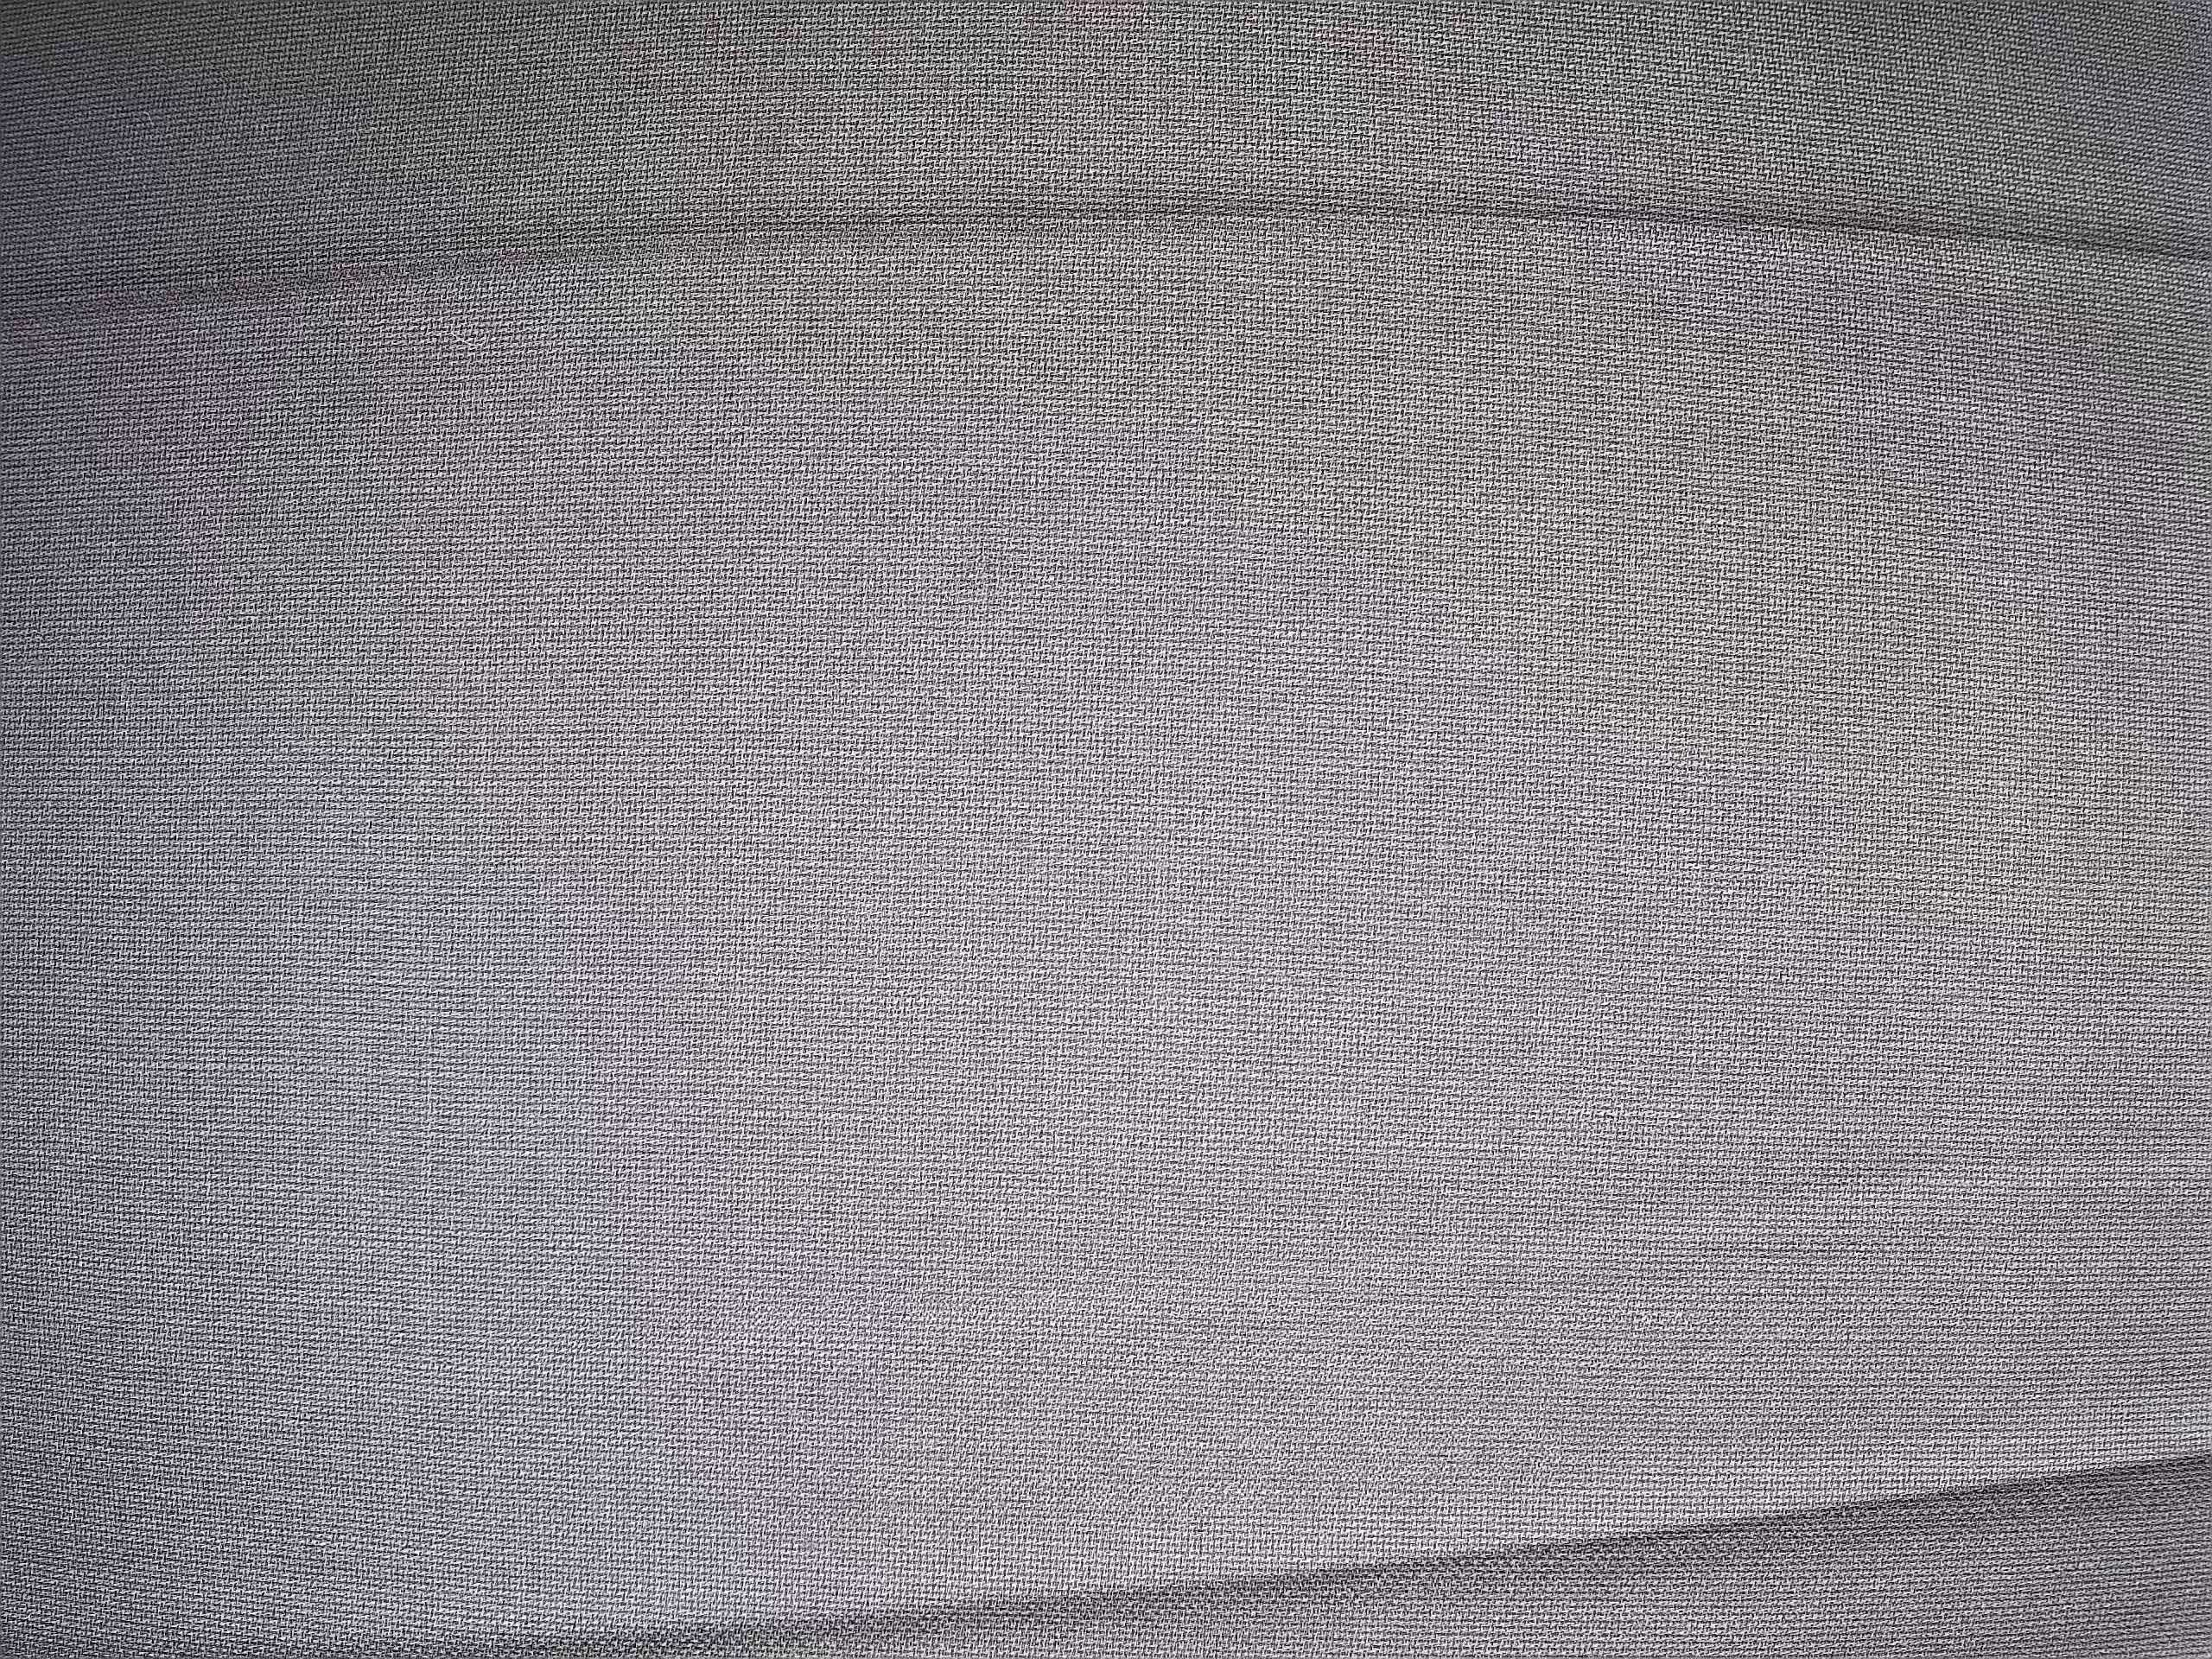others: (928, 537, 1055, 627)
